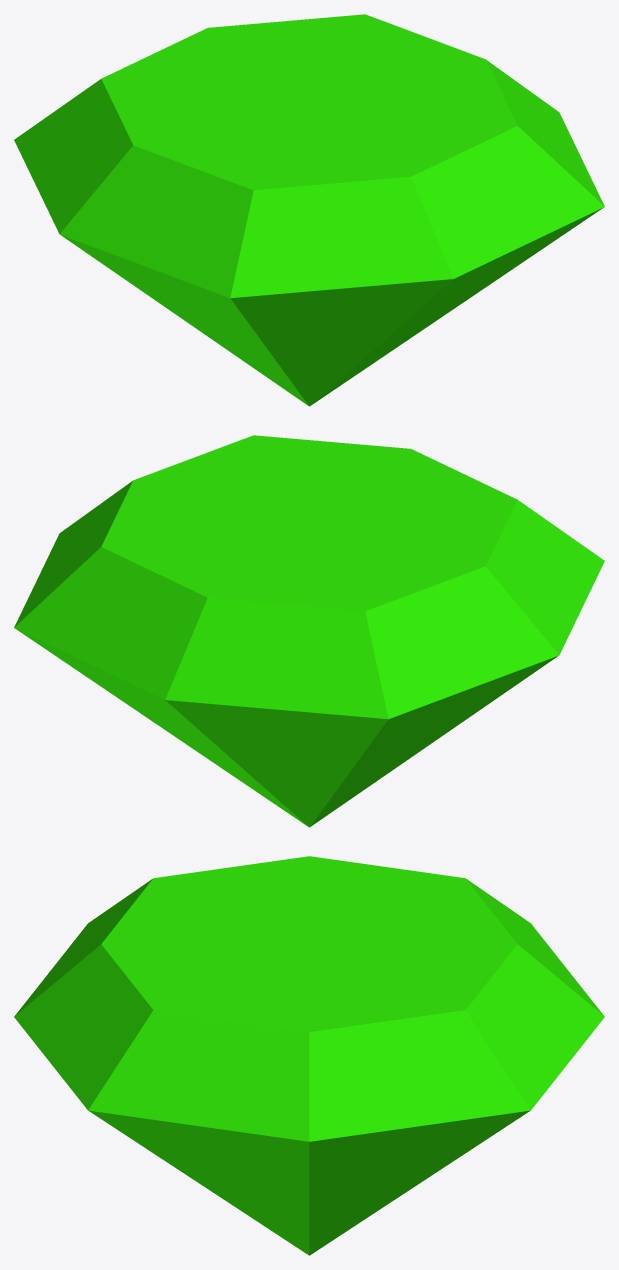
File: Chaos Emerald.fbx
3 views of the same model, one above another, from view 1: azimuth 30°, elevation 25°; view 2: azimuth 150°, elevation 25°; view 3: azimuth 270°, elevation 25° (orthographic). The views are drawn at different scales.
Visible parts, largest first — view 1: Chaos Emerald; view 2: Chaos Emerald; view 3: Chaos Emerald.
Boxes of the visible parts, x1,y1,x2,y2 form: Chaos Emerald: (14, 14, 604, 406); Chaos Emerald: (14, 435, 604, 827); Chaos Emerald: (14, 856, 604, 1255).
Bounding box in the file's own units: 267 × 155 × 267.
